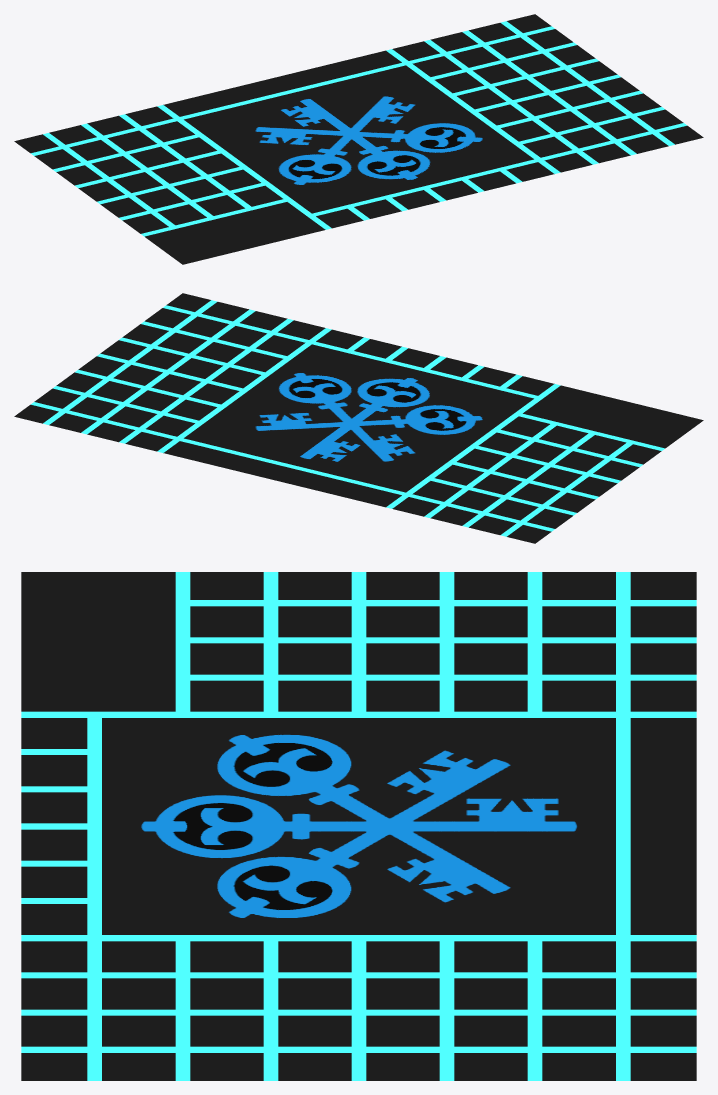
The model's file is field5.fbx.
3 renders of one model, top to bottom at view 1: azimuth 30°, elevation 25°; view 2: azimuth 150°, elevation 25°; view 3: azimuth 270°, elevation 25°, orthographic. The views are drawn at different scales.
Parts seen in each view (by area): view 1: Field; view 2: Field; view 3: Field.
Part boxes in pixels (box(x1,y1,x2,y2)): Field: box(14, 14, 703, 264); Field: box(14, 293, 703, 543); Field: box(21, 572, 696, 1080).
Bounding box in the file's own units: 4100 × 0.000375 × 2300.
